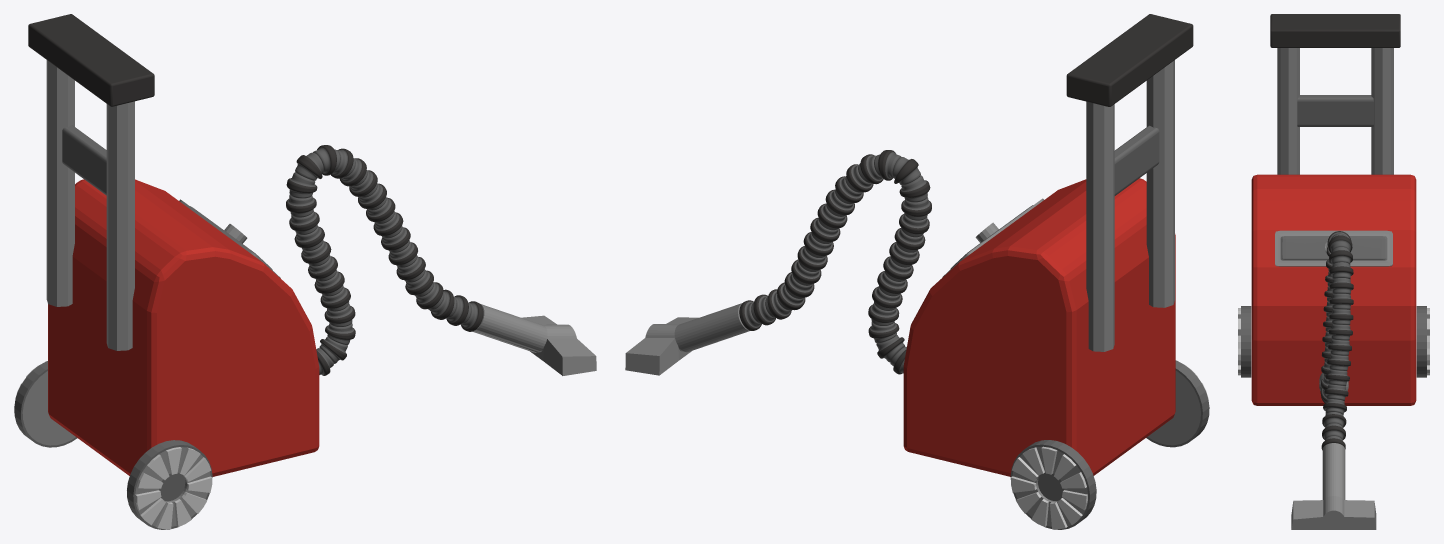
Rendered from vacuum textured.fbx.
The picture shows the model from 3 angles, left to right: view 1: azimuth 30°, elevation 25°; view 2: azimuth 150°, elevation 25°; view 3: azimuth 270°, elevation 25°; orthographic projection. The views are drawn at different scales.
Parts seen in each view (by area): view 1: Vaccum, Wire, Bars.001, Cube, Bars, Tire.001, Vaccum front, Tire, Cube.001; view 2: Vaccum, Wire, Bars, Cube, Bars.001, Tire, Vaccum front, Tire.001, Cube.001; view 3: Vaccum, Wire, Cube, Vaccum front, Plane, Bars.001, Bars, Cube.001, Tire, Tire.001.
Boxes of the visible parts, bbox=[...] form: Vaccum: bbox=[48, 179, 319, 476]; Wire: bbox=[286, 145, 483, 375]; Bars.001: bbox=[106, 101, 134, 350]; Cube: bbox=[28, 14, 154, 106]; Bars: bbox=[46, 60, 74, 306]; Tire.001: bbox=[127, 440, 212, 529]; Vaccum front: bbox=[472, 304, 596, 375]; Tire: bbox=[14, 361, 77, 447]; Cube.001: bbox=[62, 125, 106, 195]; Vaccum: bbox=[903, 178, 1175, 476]; Wire: bbox=[739, 150, 931, 374]; Bars: bbox=[1086, 101, 1114, 351]; Cube: bbox=[1066, 14, 1193, 106]; Bars.001: bbox=[1146, 60, 1174, 307]; Tire: bbox=[1010, 440, 1096, 529]; Vaccum front: bbox=[625, 303, 750, 375]; Tire.001: bbox=[1146, 360, 1209, 447]; Cube.001: bbox=[1114, 125, 1159, 195]; Vaccum: bbox=[1251, 174, 1416, 405]; Wire: bbox=[1320, 231, 1353, 450]; Cube: bbox=[1270, 14, 1400, 47]; Vaccum front: bbox=[1291, 443, 1376, 529]; Plane: bbox=[1275, 230, 1392, 266]; Bars.001: bbox=[1277, 48, 1299, 174]; Bars: bbox=[1371, 48, 1393, 174]; Cube.001: bbox=[1297, 95, 1373, 126]; Tire: bbox=[1416, 306, 1429, 377]; Tire.001: bbox=[1238, 306, 1251, 377].
Size of the model in its own units: 3738 by 3147 by 1590.
